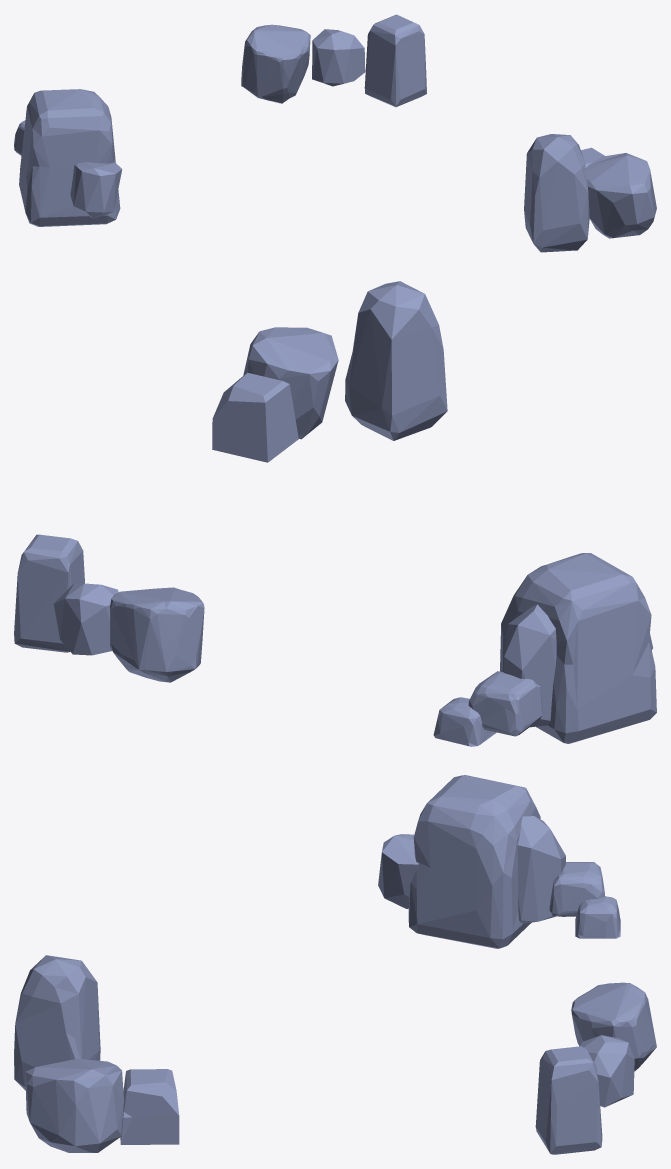
The model's file is stone3.fbx.
The picture shows the model from 3 angles, top to bottom: view 1: azimuth 30°, elevation 25°; view 2: azimuth 150°, elevation 25°; view 3: azimuth 270°, elevation 25°; orthographic projection. The views are drawn at different scales.
Visible parts, largest first — view 1: Cubo.056, Cubo.103, Cubo.102, Cubo.052, Cubo.055, Cubo.054, Cubo.058; view 2: Cubo.056, Cubo.103, Cubo.055, Cubo.102, Cubo.104, Cubo.052, Cubo.057, Cubo.054, Cubo.059, Cubo.060; view 3: Cubo.056, Cubo.103, Cubo.102, Cubo.052, Cubo.055, Cubo.104, Cubo.057, Cubo.054, Cubo.059, Cubo.058, Cubo.060.
Boxes of the visible parts, x1,y1,x2,y2 form: Cubo.056: (19,89,120,226); Cubo.103: (524,134,589,252); Cubo.102: (585,153,656,238); Cubo.052: (364,14,426,107); Cubo.055: (241,24,310,103); Cubo.054: (312,29,365,86); Cubo.058: (70,162,122,218); Cubo.056: (500,553,656,743); Cubo.103: (345,281,447,440); Cubo.055: (110,587,204,682); Cubo.102: (243,327,338,439); Cubo.104: (212,372,298,462); Cubo.052: (14,534,84,652); Cubo.057: (504,604,556,727); Cubo.054: (53,582,118,655); Cubo.059: (468,671,542,736); Cubo.060: (433,697,496,746); Cubo.056: (408,775,540,948); Cubo.103: (14,955,100,1090); Cubo.102: (25,1058,123,1152); Cubo.052: (535,1046,602,1154); Cubo.055: (571,982,656,1071); Cubo.104: (120,1069,179,1144); Cubo.057: (517,814,565,923); Cubo.054: (580,1035,634,1107); Cubo.059: (549,862,604,916); Cubo.058: (378,834,418,908); Cubo.060: (575,896,620,938).
Size of the model in its own units: 1764 by 462 by 1738.
